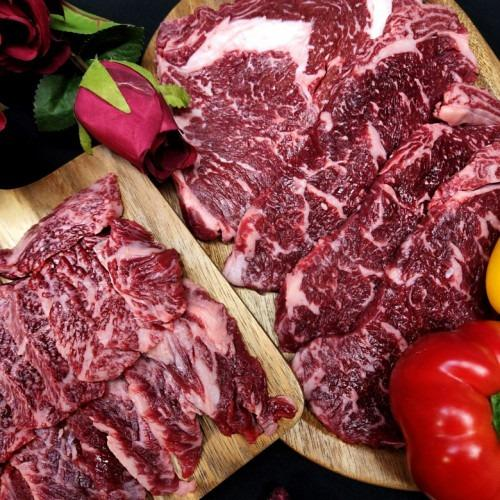beef: (148, 6, 382, 207), (1, 161, 154, 381)
